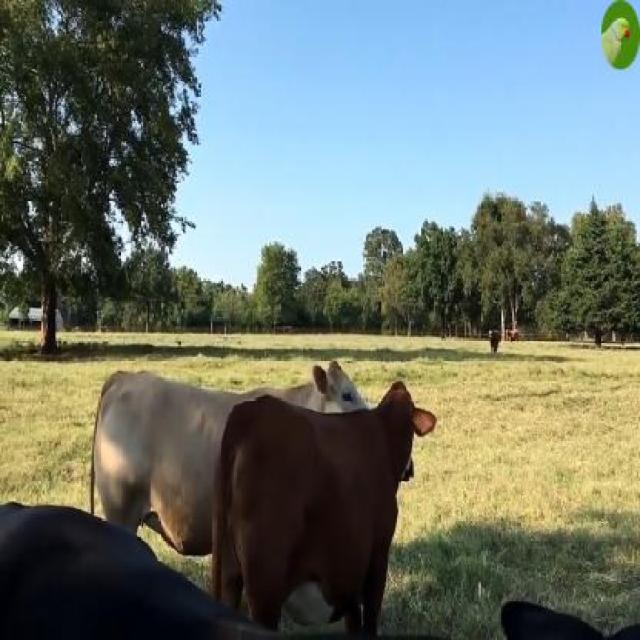Cow: (211, 382, 437, 638)
